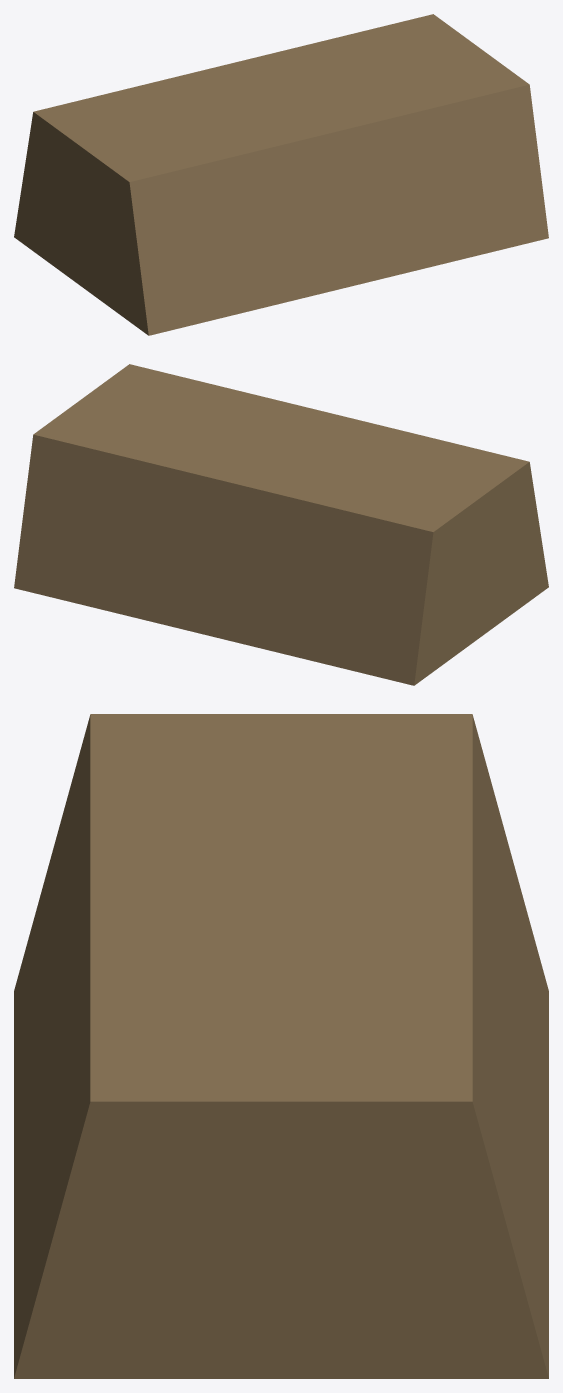
Rendered from earthwall-B-LOD2.glb.
The picture shows the model from 3 angles, top to bottom: view 1: azimuth 30°, elevation 25°; view 2: azimuth 150°, elevation 25°; view 3: azimuth 270°, elevation 25°; orthographic projection. The views are drawn at different scales.
Visible parts, largest first — view 1: earthwall-B-LOD2; view 2: earthwall-B-LOD2; view 3: earthwall-B-LOD2.
Boxes of the visible parts, left/top/right/bottom form: earthwall-B-LOD2: left=14, top=14, right=548, bottom=335; earthwall-B-LOD2: left=14, top=364, right=548, bottom=685; earthwall-B-LOD2: left=14, top=714, right=548, bottom=1378.
Bounding box in the file's own units: 24 × 8 × 14.
